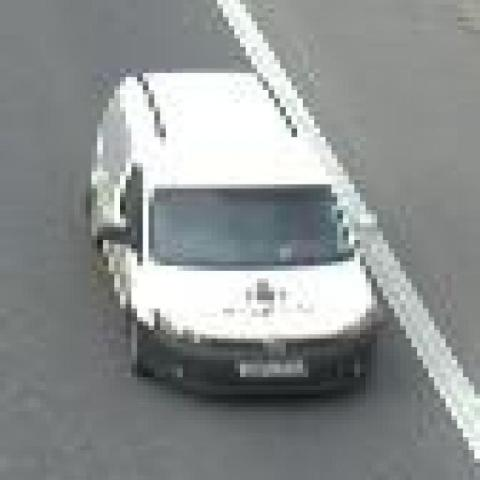van: (97, 77, 377, 404)
